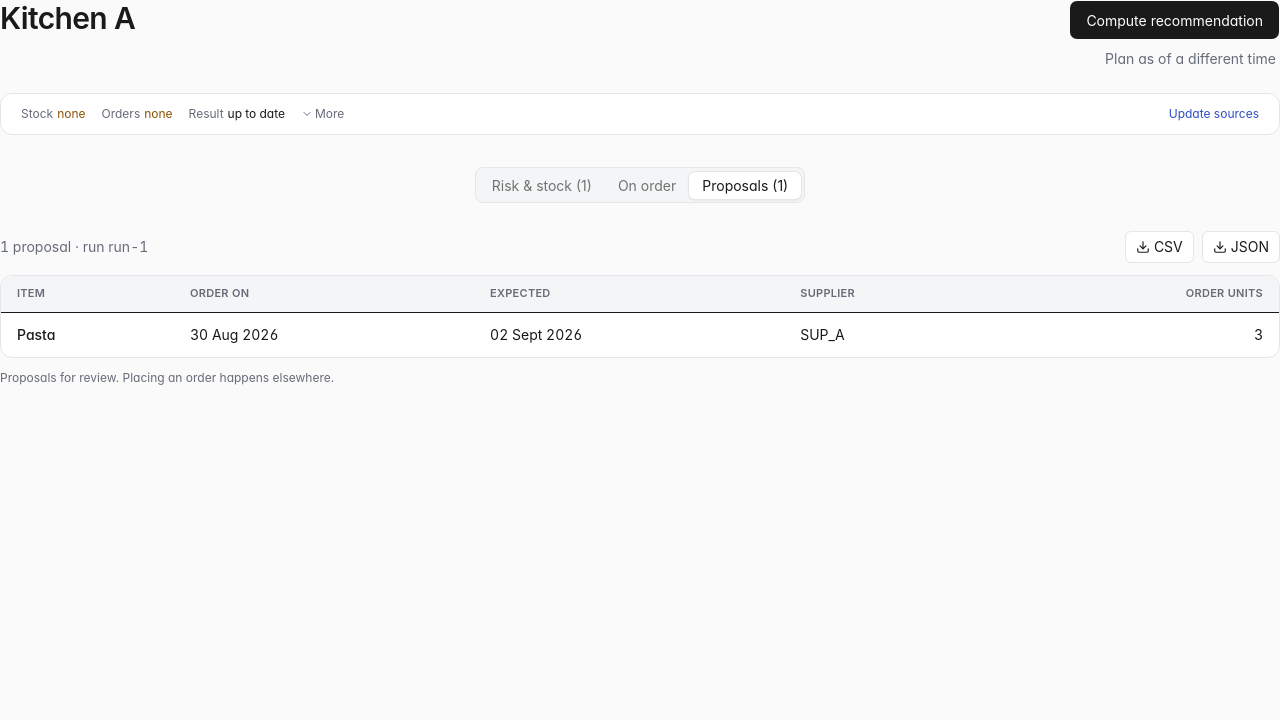
Scenario: the derivation drawer › shows the chain and quotes the engine note about the minimum
The width and height of the screenshot is (1280, 720).
// A button, not a row click: the derivation must be keyboard reachable.
Click the button "Pasta": (36, 334) [13,320,59,348]
(page scrolled)
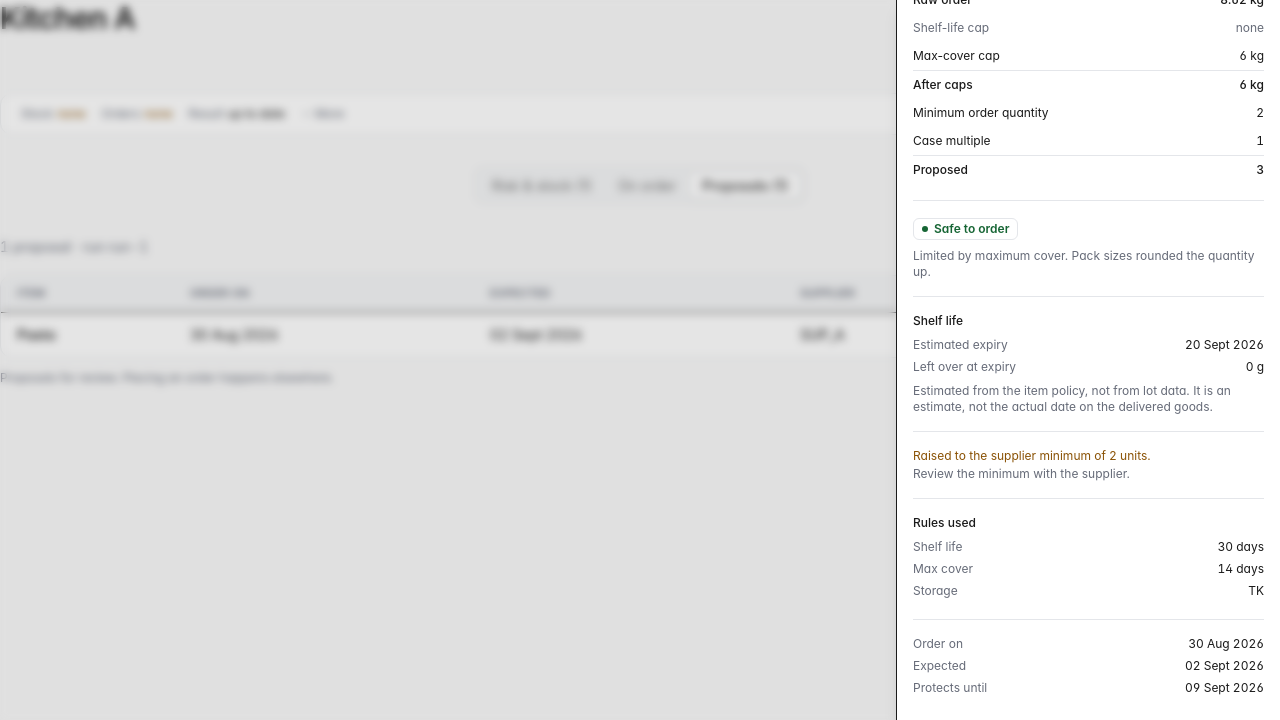
Check: the text "Max-cover cap" is shown, box [913,48,1000,64]
Check: the text "Raised to the supplier minimum of 2 units." is shown, box [913,448,1151,463]
Check: the text "Review the minimum with the supplier." is shown, box [913,466,1130,481]
